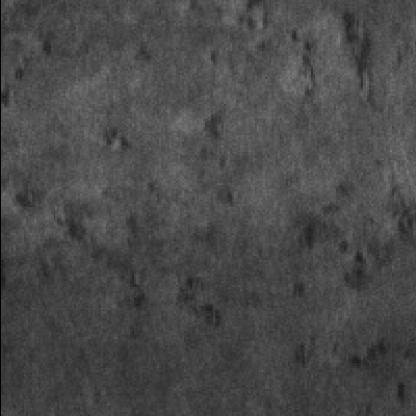rolled-in_scale: (11, 176, 235, 328), (239, 4, 397, 119), (287, 178, 412, 301)
